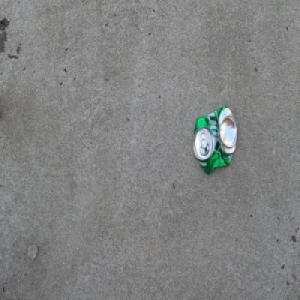SodaCan: (192, 104, 237, 174)
